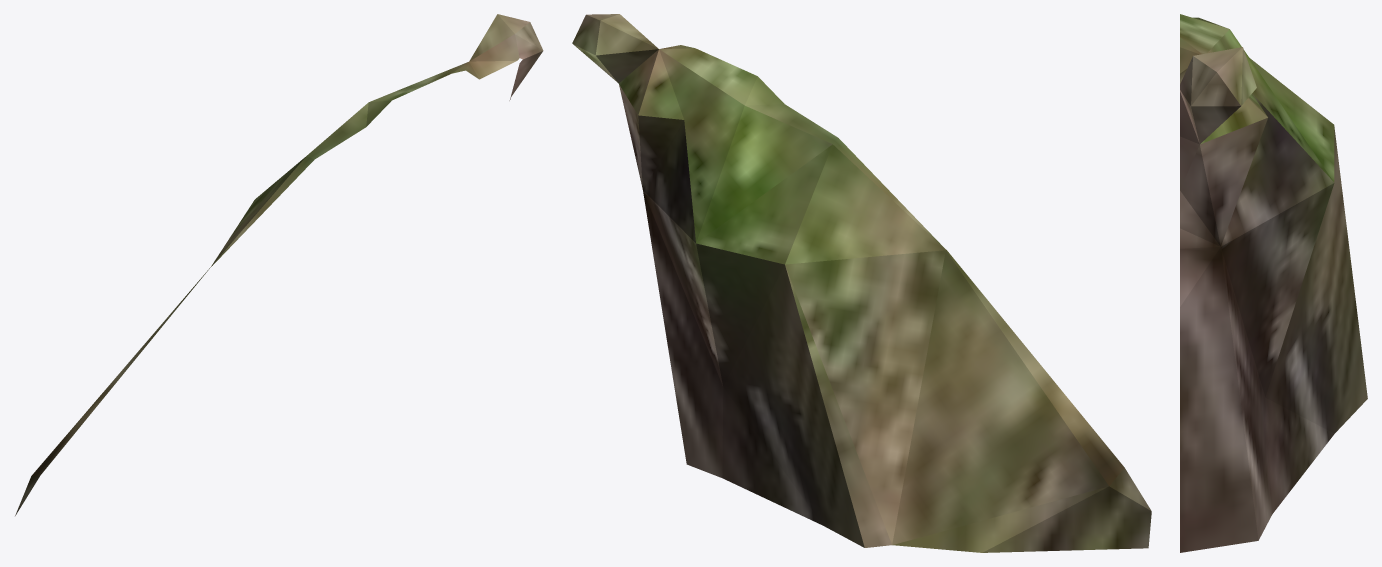
The picture shows the model from 3 angles, left to right: view 1: azimuth 30°, elevation 25°; view 2: azimuth 150°, elevation 25°; view 3: azimuth 270°, elevation 25°; orthographic projection. The views are drawn at different scales.
Bounding box in the file's own units: 0.9981 × 0.7147 × 0.2197.
Materials: 1 (1 with a texture image).
